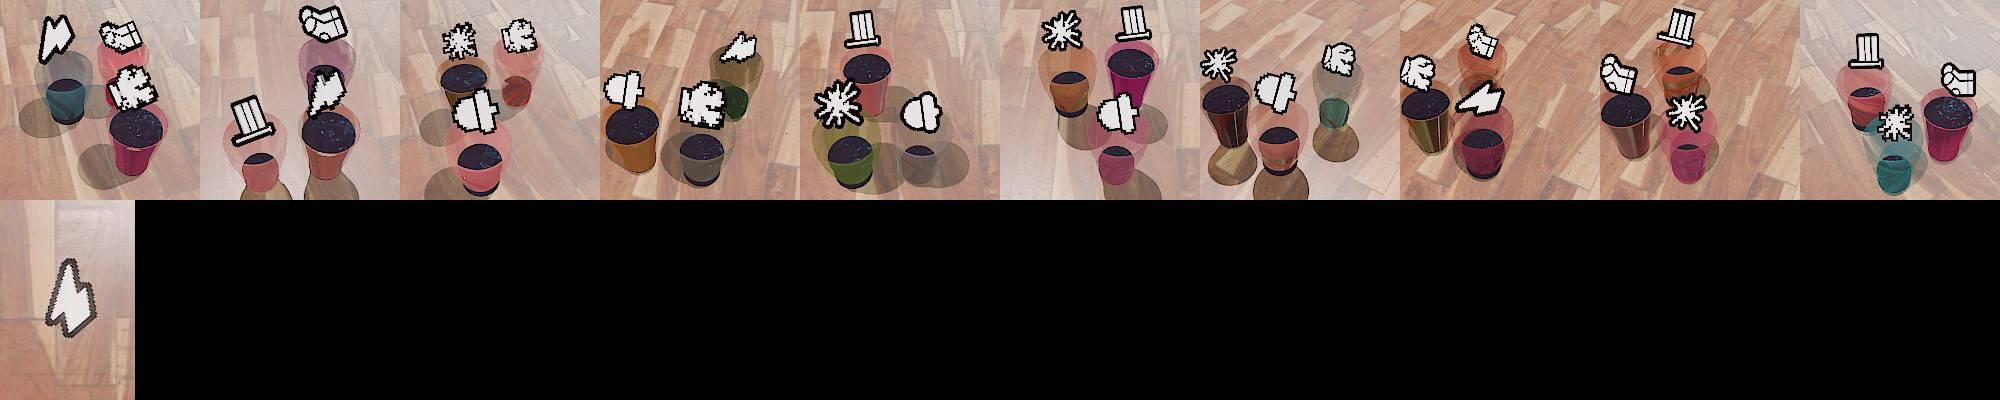icon: (45, 256, 98, 338), (812, 79, 864, 130), (676, 79, 727, 129), (450, 87, 499, 134), (107, 64, 157, 108), (305, 66, 347, 117), (228, 96, 273, 143), (1094, 89, 1140, 134), (1253, 70, 1297, 115), (37, 14, 75, 65), (1040, 9, 1083, 54), (1454, 79, 1506, 116), (901, 89, 944, 132), (603, 69, 645, 111), (1599, 51, 1639, 96), (300, 5, 347, 42), (1665, 92, 1707, 132), (1875, 102, 1916, 143), (98, 19, 144, 55), (441, 20, 481, 59), (717, 31, 759, 65), (500, 18, 538, 55), (1116, 4, 1152, 43), (1940, 62, 1978, 98), (1402, 54, 1436, 90), (1467, 22, 1500, 60), (1852, 32, 1884, 70), (1320, 42, 1356, 75), (1203, 47, 1237, 79), (1666, 9, 1696, 45), (848, 9, 878, 45)
